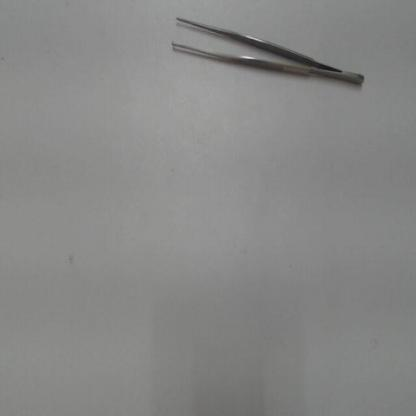Gillies Toothed Dissector: (166, 4, 368, 90)
